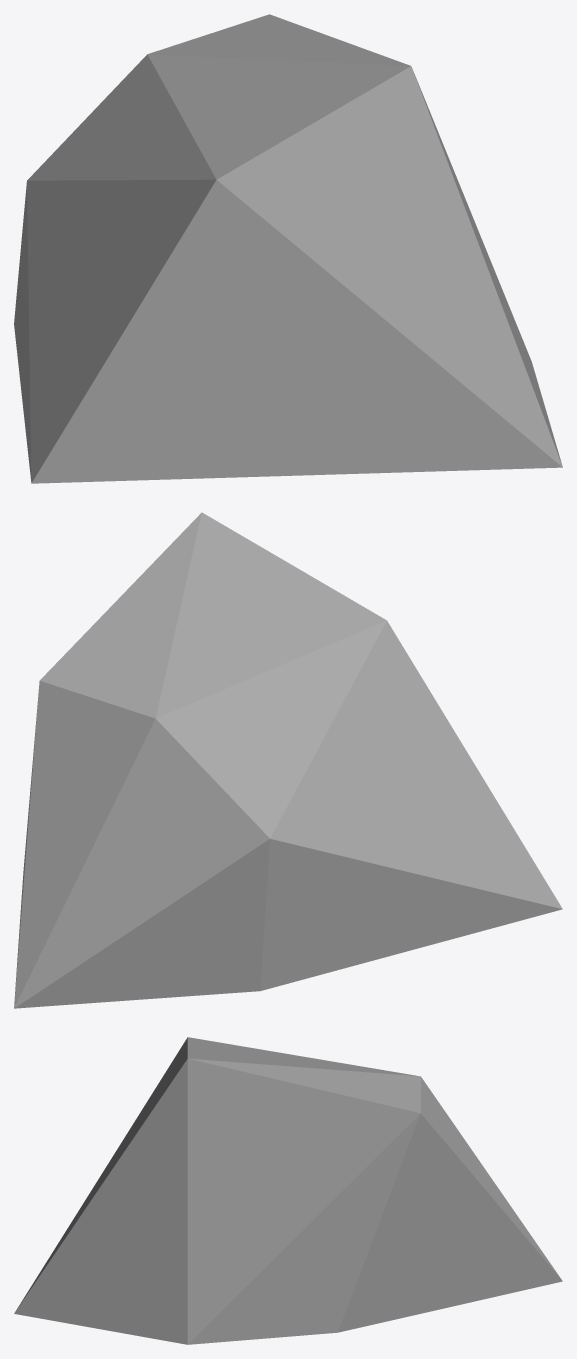
The model's file is Isl_7_Stone_4.fbx.
3 renders of one model, top to bottom at view 1: azimuth 30°, elevation 25°; view 2: azimuth 150°, elevation 25°; view 3: azimuth 270°, elevation 25°, orthographic. The views are drawn at different scales.
Visible parts, largest first — view 1: Isl_7_Stone_4; view 2: Isl_7_Stone_4; view 3: Isl_7_Stone_4.
Part boxes in pixels (x1=…): Isl_7_Stone_4: x1=14, y1=14, x2=562, y2=483; Isl_7_Stone_4: x1=14, y1=512, x2=562, y2=1008; Isl_7_Stone_4: x1=14, y1=1037, x2=562, y2=1344.
Size of the model in its own units: 218 by 277 by 135.
1 material, 1 textured.
